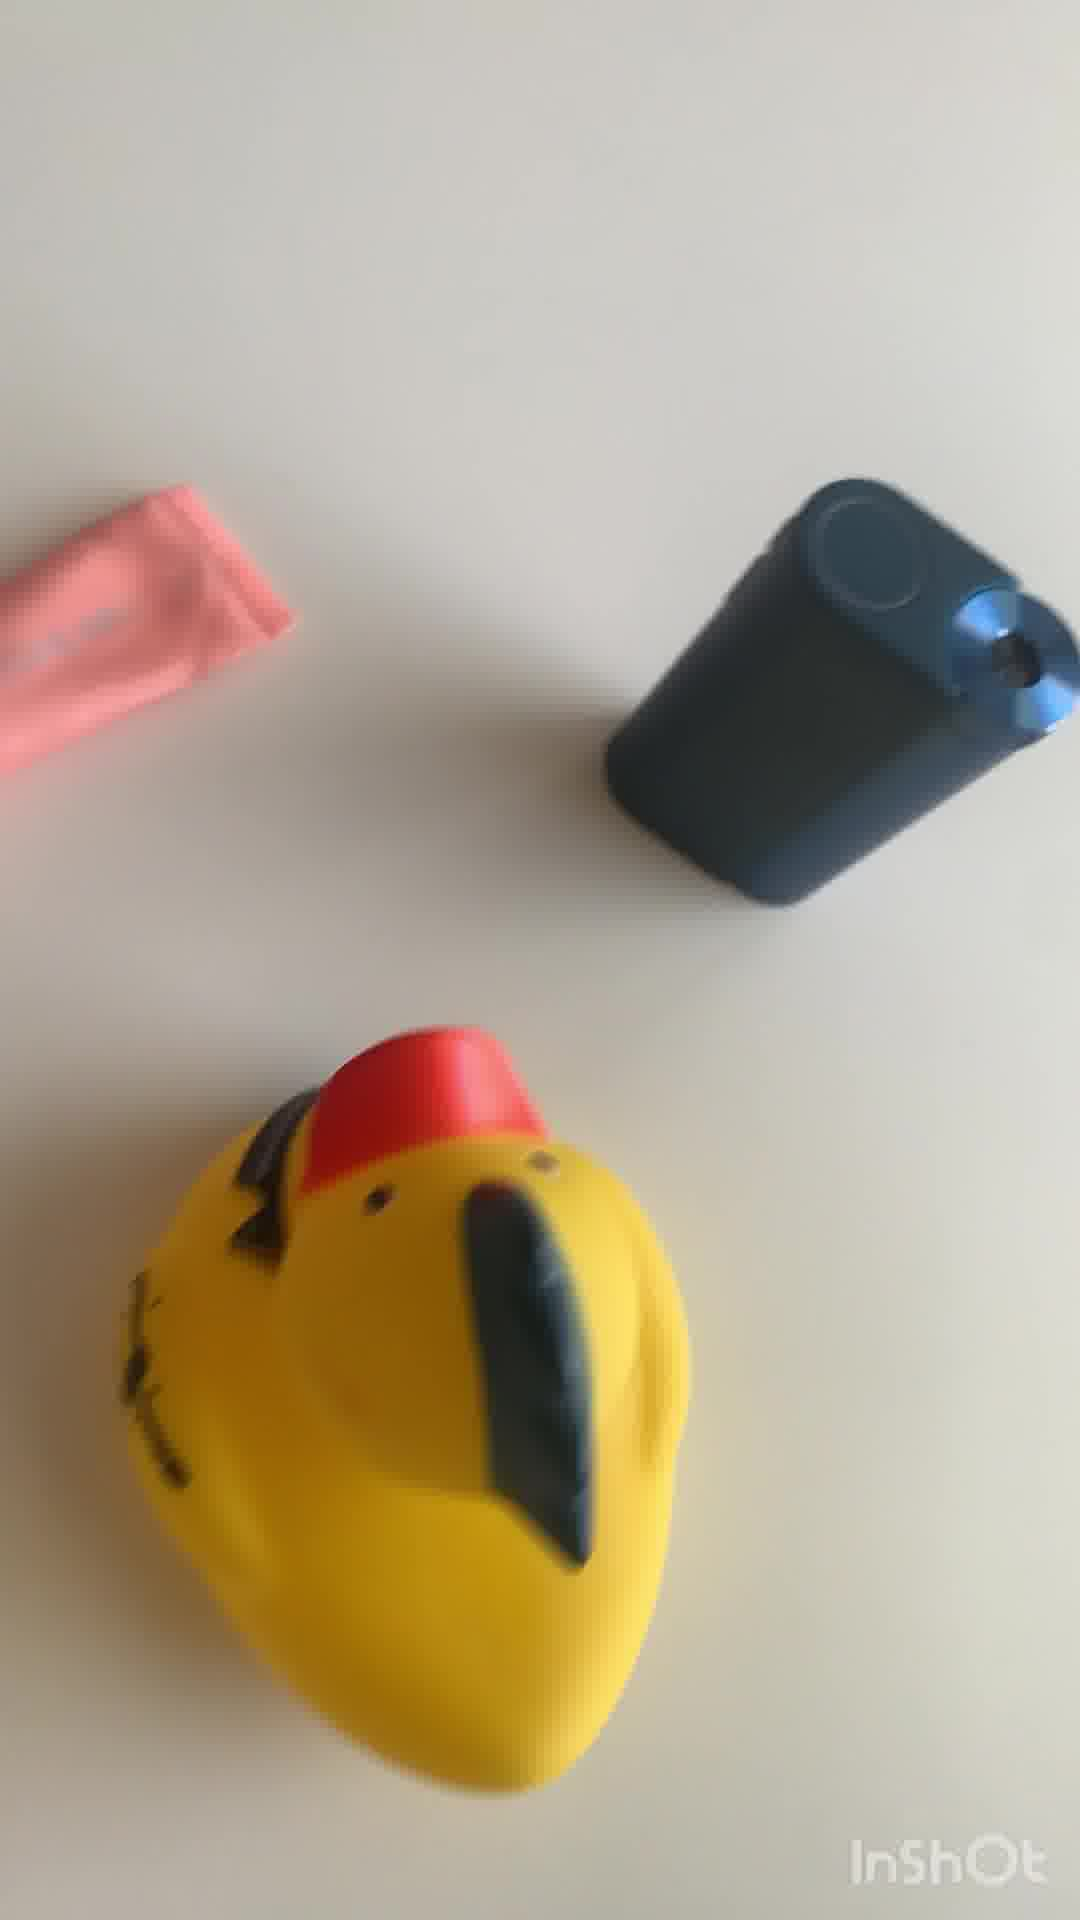duck: (117, 1026, 695, 1805)
glo: (603, 472, 1080, 916)
lip balm: (1, 483, 295, 764)
